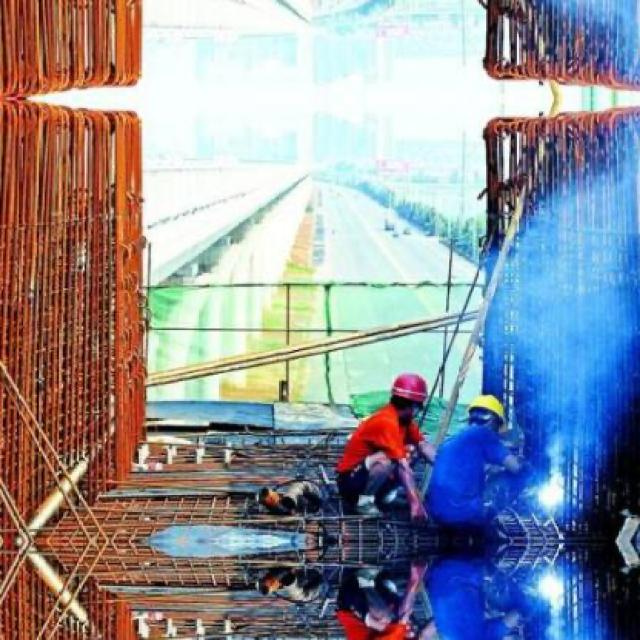con casco: (440, 361, 545, 459), (341, 365, 439, 459)
